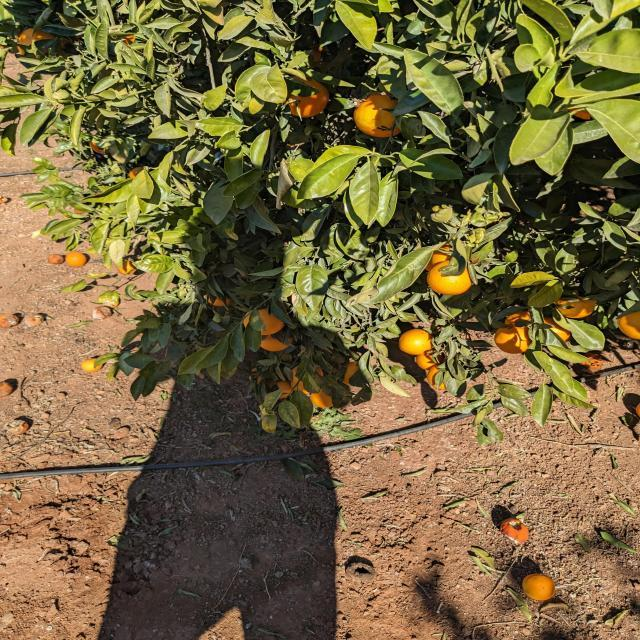Jeruk Sudah Matang: (357, 94, 402, 139), (286, 80, 331, 118), (426, 262, 472, 296), (16, 28, 56, 58), (551, 294, 598, 318), (244, 308, 284, 336), (494, 328, 526, 356), (399, 328, 433, 354), (290, 366, 322, 390), (425, 243, 453, 270), (540, 322, 570, 344), (258, 333, 294, 351), (342, 362, 364, 388), (416, 350, 444, 370), (620, 312, 640, 338), (427, 364, 447, 390), (310, 389, 336, 408), (270, 378, 291, 398), (504, 312, 530, 328), (204, 296, 234, 308), (118, 261, 136, 274), (89, 142, 106, 154), (129, 166, 144, 178), (120, 34, 134, 46)
